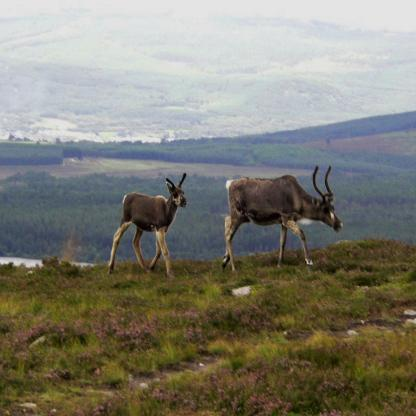Deer: (221, 165, 342, 272), (107, 172, 188, 278)
